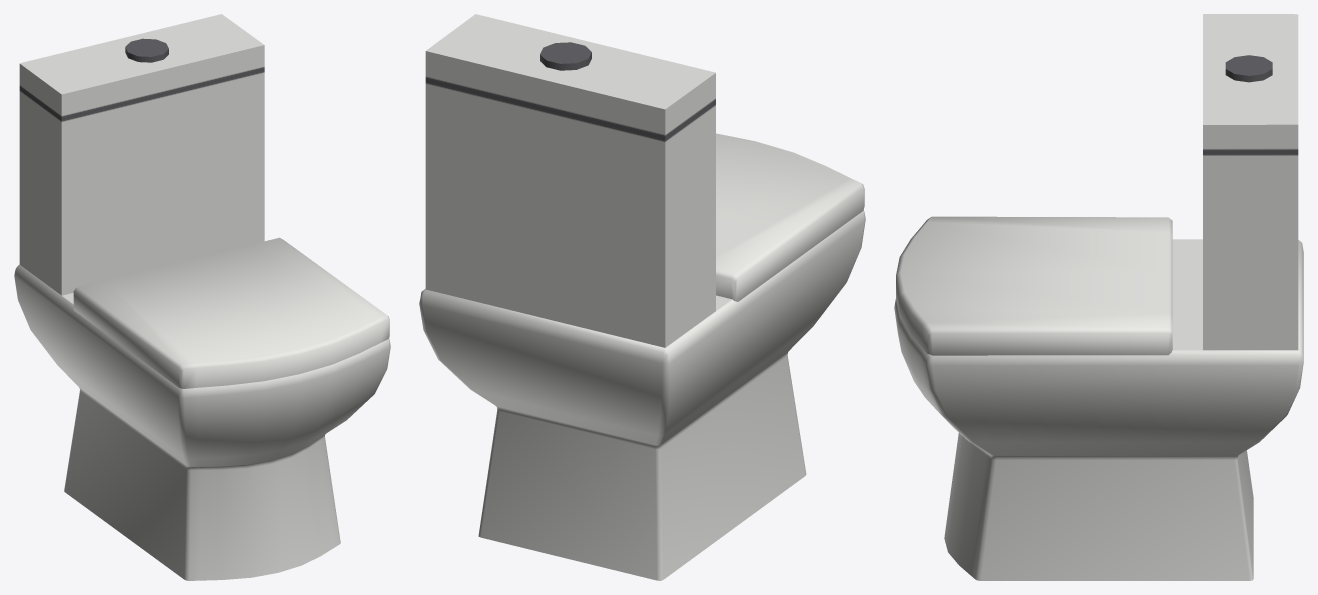
File: commode.FBX
The picture shows the model from 3 angles, left to right: view 1: azimuth 30°, elevation 25°; view 2: azimuth 150°, elevation 25°; view 3: azimuth 270°, elevation 25°; orthographic projection. The views are drawn at different scales.
Visible parts, largest first — view 1: commode; view 2: commode; view 3: commode.
Part boxes in pixels (x1,y1,x2,y2): commode: [14, 14, 390, 580]; commode: [419, 14, 865, 580]; commode: [894, 14, 1303, 580].
Size of the model in its own units: 20.8 by 31.08 by 39.83.
